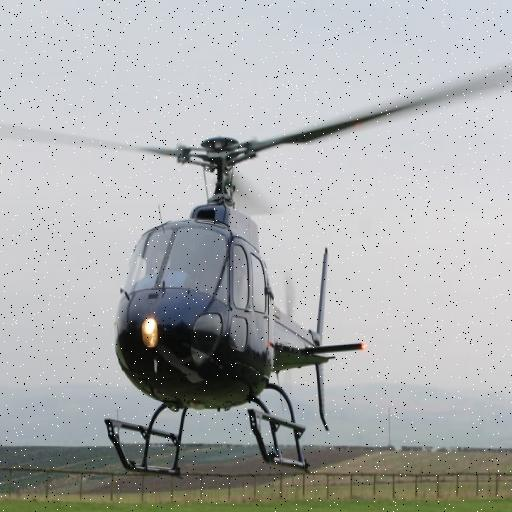helicopter: (1, 115, 475, 477)
